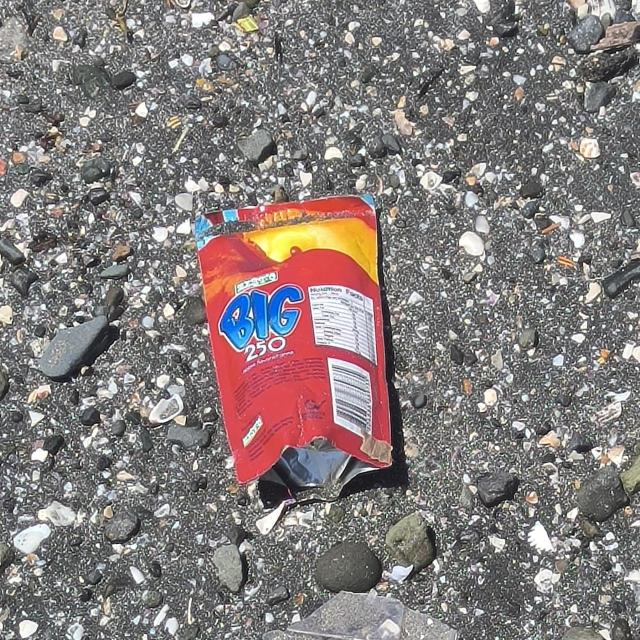plastic_waste: (194, 193, 396, 504)
